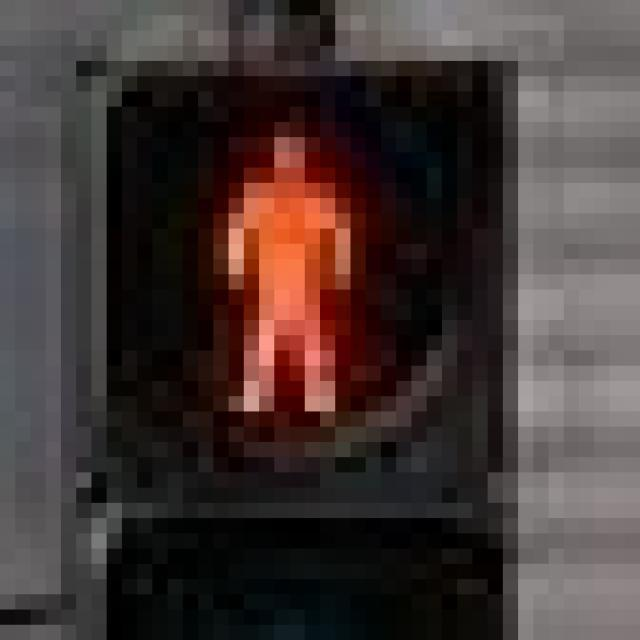red-crossing: (152, 61, 396, 457)
